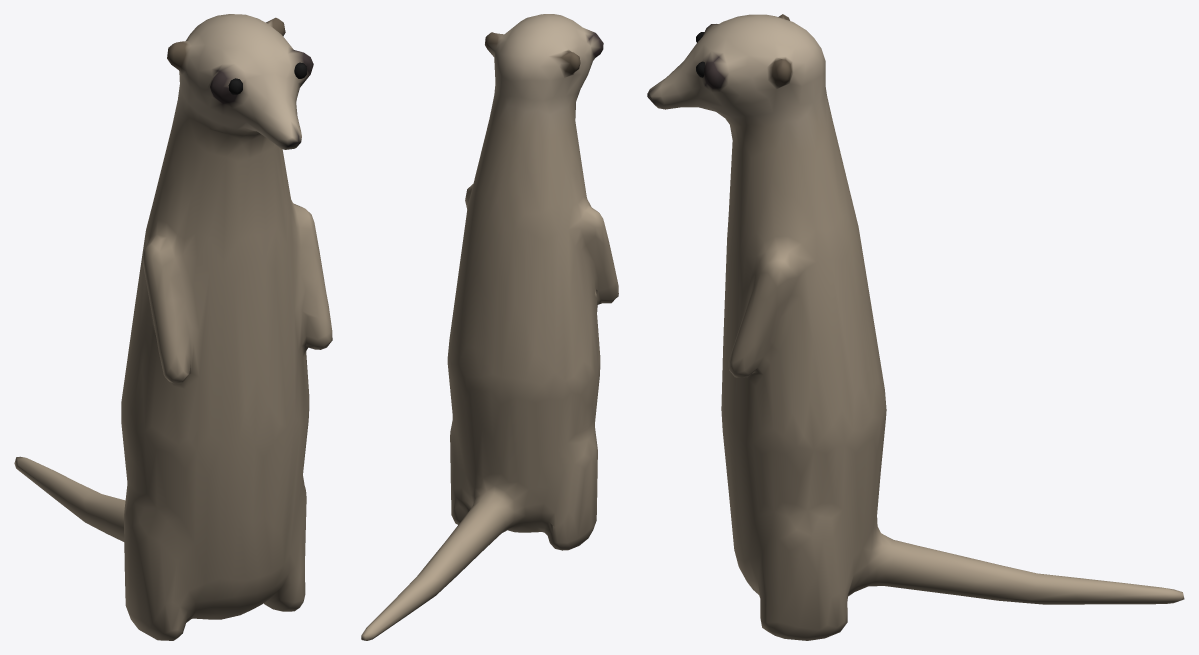
The model's file is erdmaennchen.glb.
The picture shows the model from 3 angles, left to right: view 1: azimuth 30°, elevation 25°; view 2: azimuth 150°, elevation 25°; view 3: azimuth 270°, elevation 25°; orthographic projection. The views are drawn at different scales.
Parts seen in each view (by area): view 1: lack; view 2: lack; view 3: lack.
Boxes of the visible parts, x1,y1,x2,y2 form: lack: (14,14,332,640); lack: (361,14,618,640); lack: (647,14,1184,640).
Bounding box in the file's own units: 0.0894 × 0.3131 × 0.2579.
